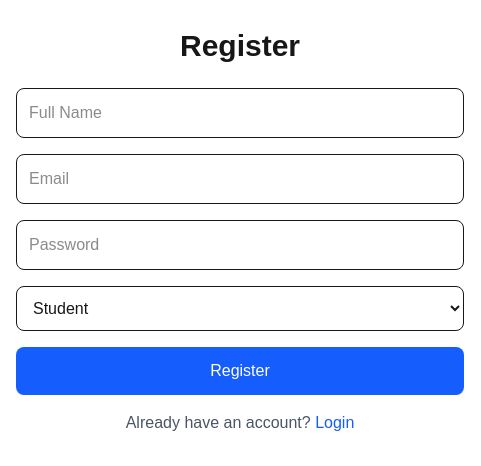
RegisterPage › should display generic error on network failure
Step 1. Type "Test User" into the field with placeholder "Full Name" → point(240, 112), box [16,88,464,138]
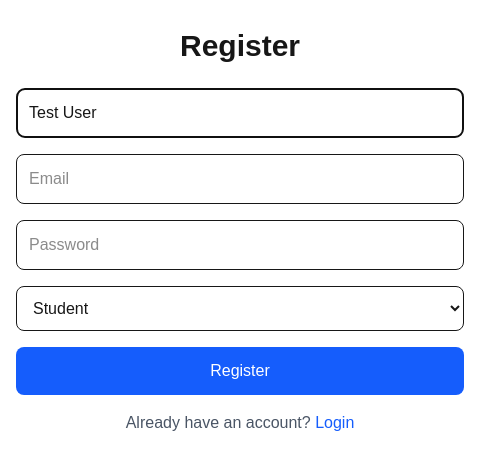
Step 2. Type "test@test.com" into the field with placeholder "Email" → point(240, 178), box [16,154,464,204]
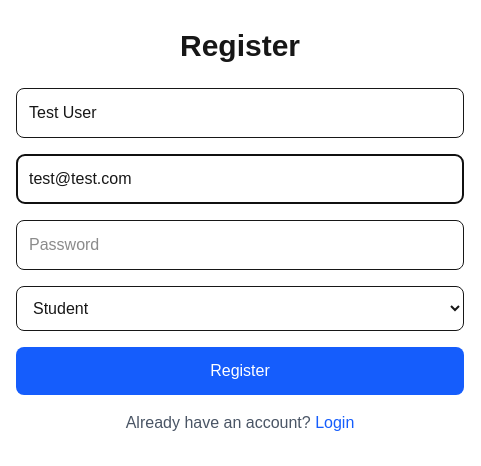
Step 3. Type "password123" into the password field with placeholder "Password" → point(240, 244), box [16,220,464,270]
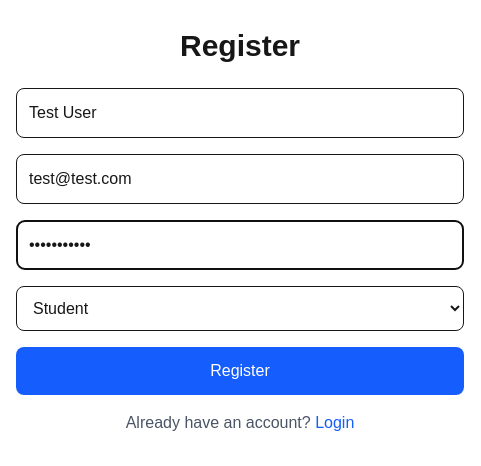
Step 4. Click the button "Register" → point(240, 370), box [16,346,464,394]
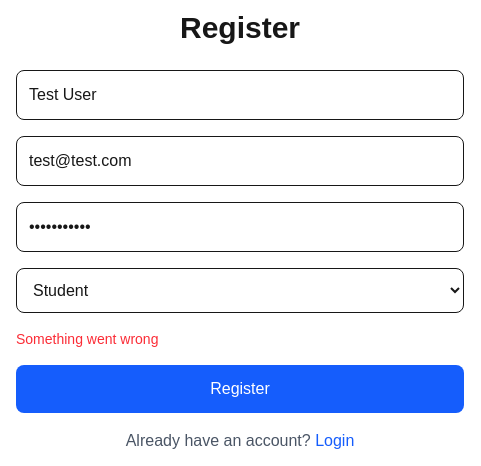
Check: the text "Something went wrong" is shown, box [16,330,158,346]
